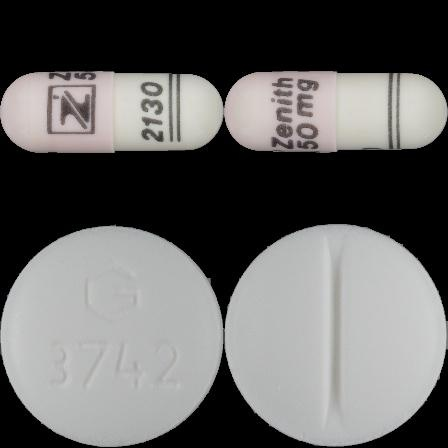54868-0107: (0, 0, 224, 224)
